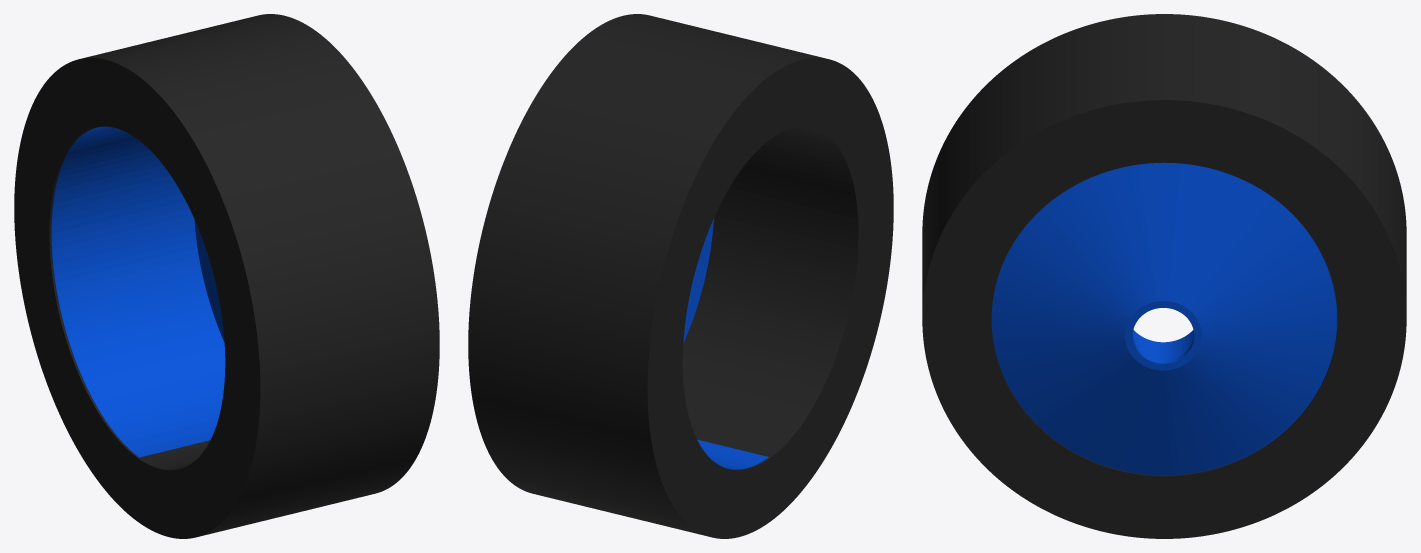
Rendered from wheel1.dae.
The picture shows the model from 3 angles, left to right: view 1: azimuth 30°, elevation 25°; view 2: azimuth 150°, elevation 25°; view 3: azimuth 270°, elevation 25°; orthographic projection.
Visible parts, largest first — view 1: wheel1.001; view 2: wheel1.001; view 3: wheel1.001.
Part boxes in pixels (x1,y1,x2,y2): wheel1.001: (14,14,439,538); wheel1.001: (468,14,893,538); wheel1.001: (922,14,1406,538).
Size of the model in its own units: 31.5 by 63 by 63.
